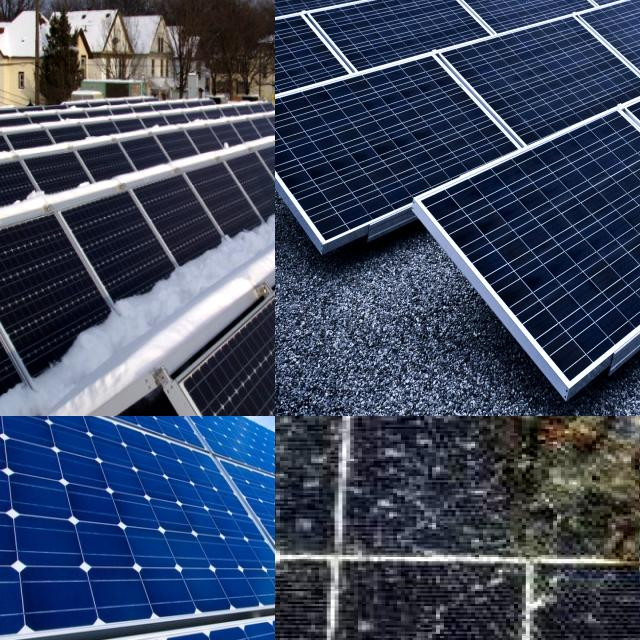crack: (415, 110, 640, 392), (0, 416, 275, 640), (275, 44, 528, 245), (439, 17, 640, 168), (304, 0, 507, 96), (275, 7, 353, 174), (206, 446, 275, 628), (450, 0, 605, 57), (580, 0, 640, 91), (344, 0, 485, 24), (555, 0, 640, 35), (451, 0, 581, 22), (446, 0, 561, 19), (275, 0, 374, 21), (525, 0, 601, 23), (552, 0, 553, 2)
panel: (183, 188, 275, 328), (22, 324, 145, 384), (119, 260, 238, 316), (0, 128, 37, 180), (0, 193, 51, 220)
shadow: (275, 416, 640, 612), (275, 416, 640, 503)
